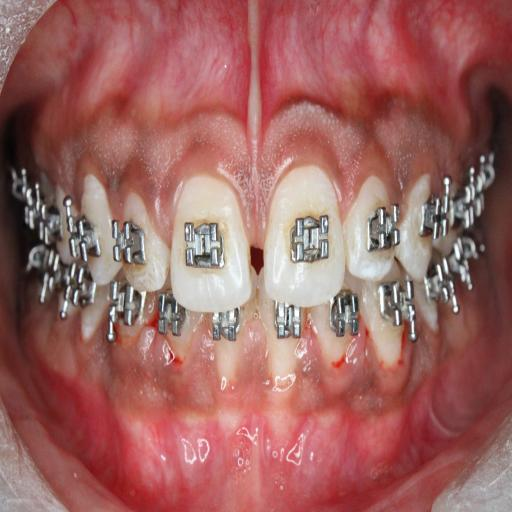correct_brace: (179, 215, 227, 275), (290, 208, 331, 274), (111, 213, 150, 274), (366, 202, 400, 258)
incorrect_brace: (110, 180, 170, 292), (346, 175, 400, 280)
